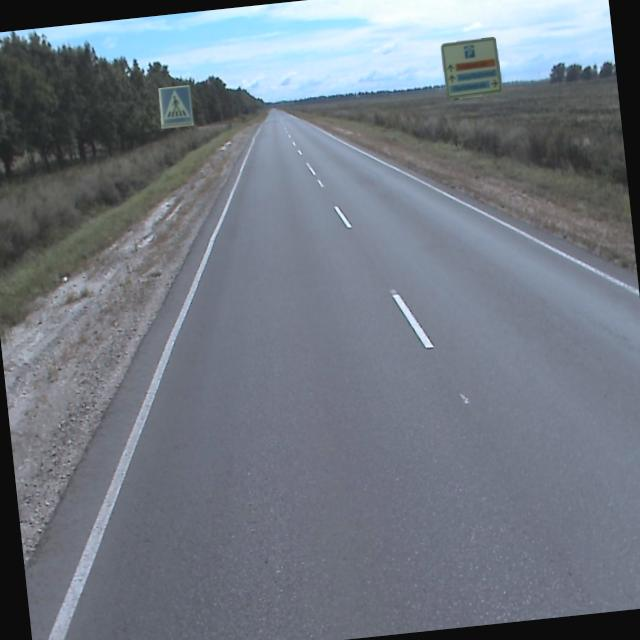road: (25, 108, 640, 640)
